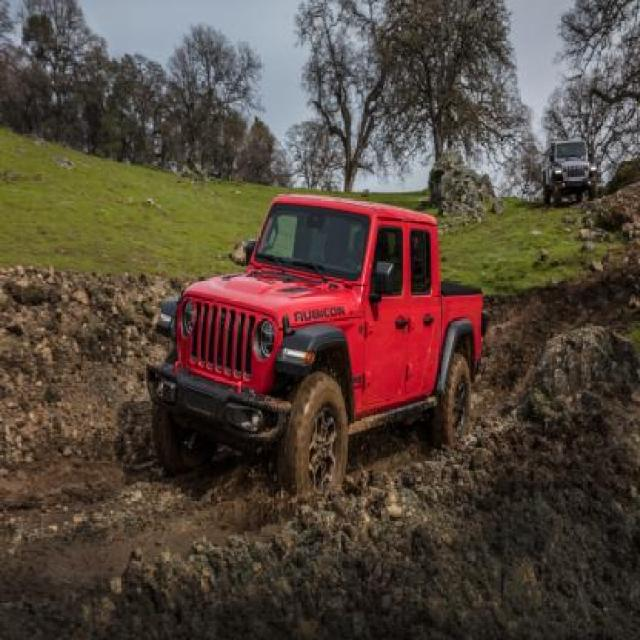Jeep: (138, 190, 484, 512)
